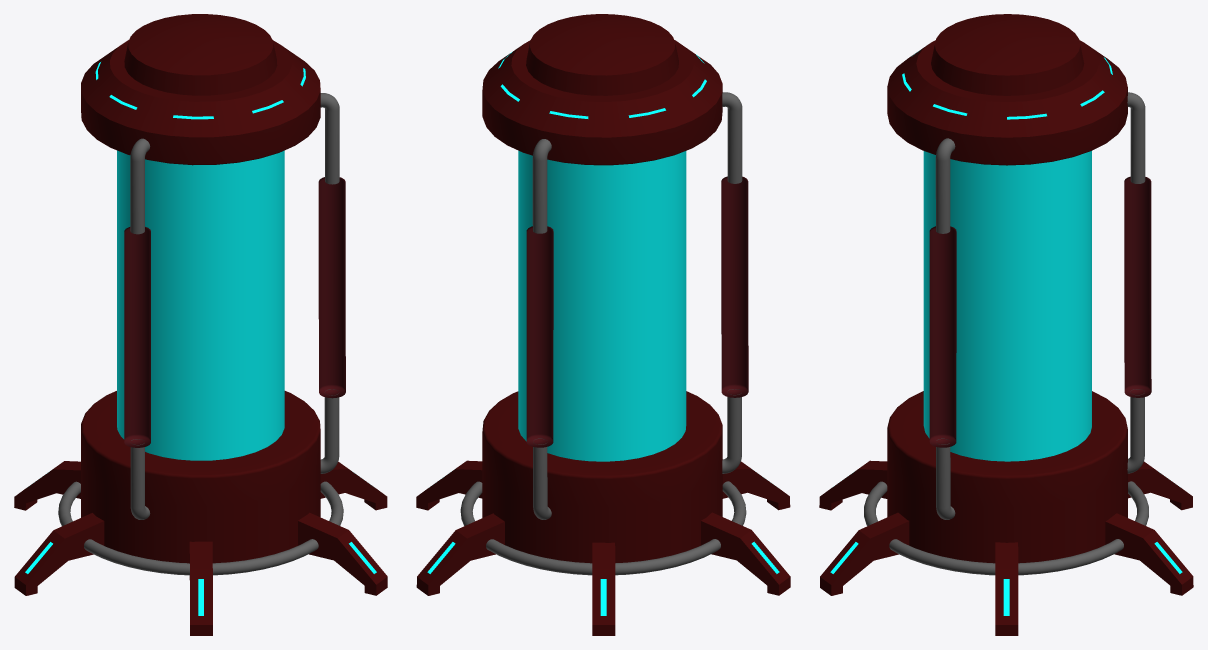
The picture shows the model from 3 angles, left to right: view 1: azimuth 30°, elevation 25°; view 2: azimuth 150°, elevation 25°; view 3: azimuth 270°, elevation 25°; orthographic projection.
Visible parts, largest first — view 1: cockpit_canopy, Cylinder, Cylinder.007, Cylinder.009, Cylinder.017, Torus.002, Cylinder.004, Cylinder.025, Cylinder.003, Cylinder.001, Cylinder.018, Cylinder.005 (+1 smaller); view 2: cockpit_canopy, Cylinder, Cylinder.007, Cylinder.016, Cylinder.017, Torus.002, Cylinder.004, Cylinder.006, Cylinder.001, Cylinder.002, Cylinder.005, Cylinder.029 (+1 smaller); view 3: cockpit_canopy, Cylinder, Cylinder.007, Cylinder.009, Cylinder.016, Torus.002, Cylinder.025, Cylinder.006, Cylinder.003, Cylinder.002, Cylinder.029, Cylinder.018 (+1 smaller).
Boxes of the visible parts, box(x1,y1,x2,y2) form: cockpit_canopy: box(117, 150, 284, 460); Cylinder: box(81, 14, 320, 165); Cylinder.007: box(81, 391, 320, 563); Cylinder.009: box(318, 177, 345, 398); Cylinder.017: box(124, 227, 150, 447); Torus.002: box(58, 481, 343, 575); Cylinder.004: box(14, 513, 104, 595); Cylinder.025: box(298, 512, 387, 595); Cylinder.003: box(320, 93, 339, 473); Cylinder.001: box(130, 138, 150, 519); Cylinder.018: box(189, 541, 212, 635); Cylinder.005: box(14, 461, 80, 510); cockpit_canopy: box(518, 150, 686, 461); Cylinder: box(482, 14, 722, 165); Cylinder.007: box(482, 391, 722, 563); Cylinder.016: box(526, 226, 553, 447); Cylinder.017: box(721, 176, 748, 397); Torus.002: box(460, 481, 746, 575); Cylinder.004: box(701, 512, 790, 595); Cylinder.006: box(416, 513, 504, 595); Cylinder.001: box(722, 92, 742, 473); Cylinder.002: box(532, 139, 551, 519); Cylinder.005: box(592, 542, 615, 635); Cylinder.029: box(416, 460, 482, 510); cockpit_canopy: box(923, 151, 1091, 461); Cylinder: box(887, 14, 1127, 165); Cylinder.007: box(887, 391, 1127, 563); Cylinder.009: box(929, 226, 956, 447); Cylinder.016: box(1124, 176, 1151, 397); Torus.002: box(864, 481, 1148, 575); Cylinder.025: box(820, 512, 909, 595); Cylinder.006: box(1105, 513, 1193, 595); Cylinder.003: box(935, 138, 955, 519); Cylinder.002: box(1127, 92, 1145, 473); Cylinder.029: box(995, 542, 1018, 635); Cylinder.018: box(819, 460, 887, 510).
Bounding box in the file's own units: 7.92 × 10.82 × 7.08.
